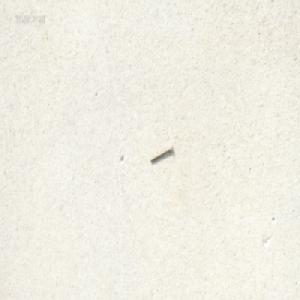Bolt: (148, 143, 172, 163)
